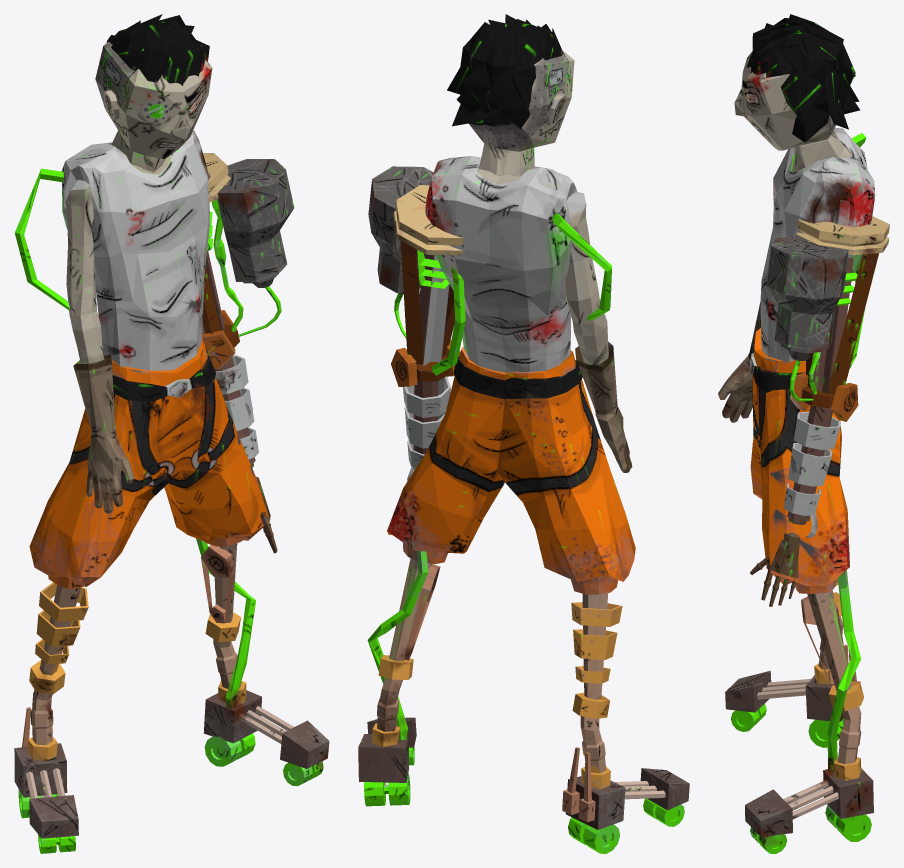
File: CyborgFINALAnimation_000047.obj
3 renders of one model, left to right at view 1: azimuth 30°, elevation 25°; view 2: azimuth 150°, elevation 25°; view 3: azimuth 270°, elevation 25°, orthographic. The views are drawn at different scales.
Visible parts, largest first — view 1: CyborgMesh_Cube.002; view 2: CyborgMesh_Cube.002; view 3: CyborgMesh_Cube.002.
Part boxes in pixels (left/top/right/bottom): CyborgMesh_Cube.002: left=14, top=14, right=329, bottom=853; CyborgMesh_Cube.002: left=358, top=14, right=689, bottom=853; CyborgMesh_Cube.002: left=718, top=14, right=889, bottom=853.
Bounding box in the file's own units: 3.84 × 9.64 × 1.96.
